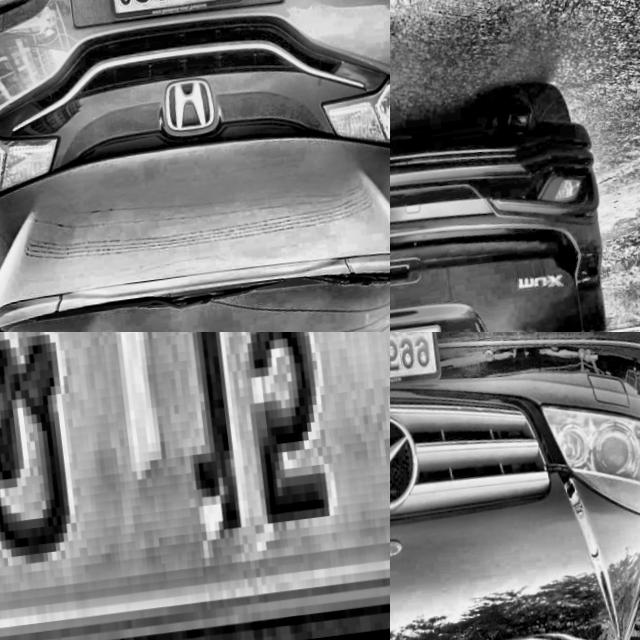license-plate: (0, 332, 390, 640), (390, 332, 447, 402), (101, 0, 245, 24)
